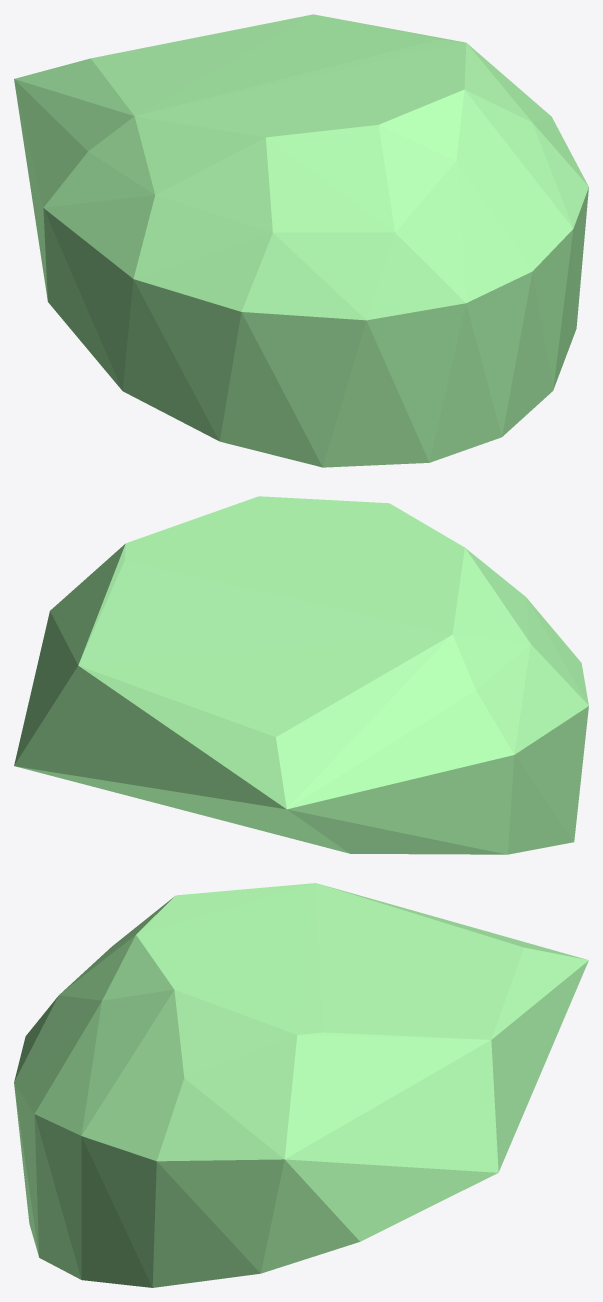
Rendered from panda_link6_resp_coll_8.dae.
The picture shows the model from 3 angles, top to bottom: view 1: azimuth 30°, elevation 25°; view 2: azimuth 150°, elevation 25°; view 3: azimuth 270°, elevation 25°; orthographic projection. The views are drawn at different scales.
Visible parts, largest first — view 1: node; view 2: node; view 3: node.
Boxes of the visible parts, box(x1,y1,x2,y2) form: node: box(14, 14, 588, 467); node: box(14, 496, 588, 854); node: box(14, 883, 588, 1287).
Size of the model in its own units: 0.1008 by 0.0601 by 0.1077.
